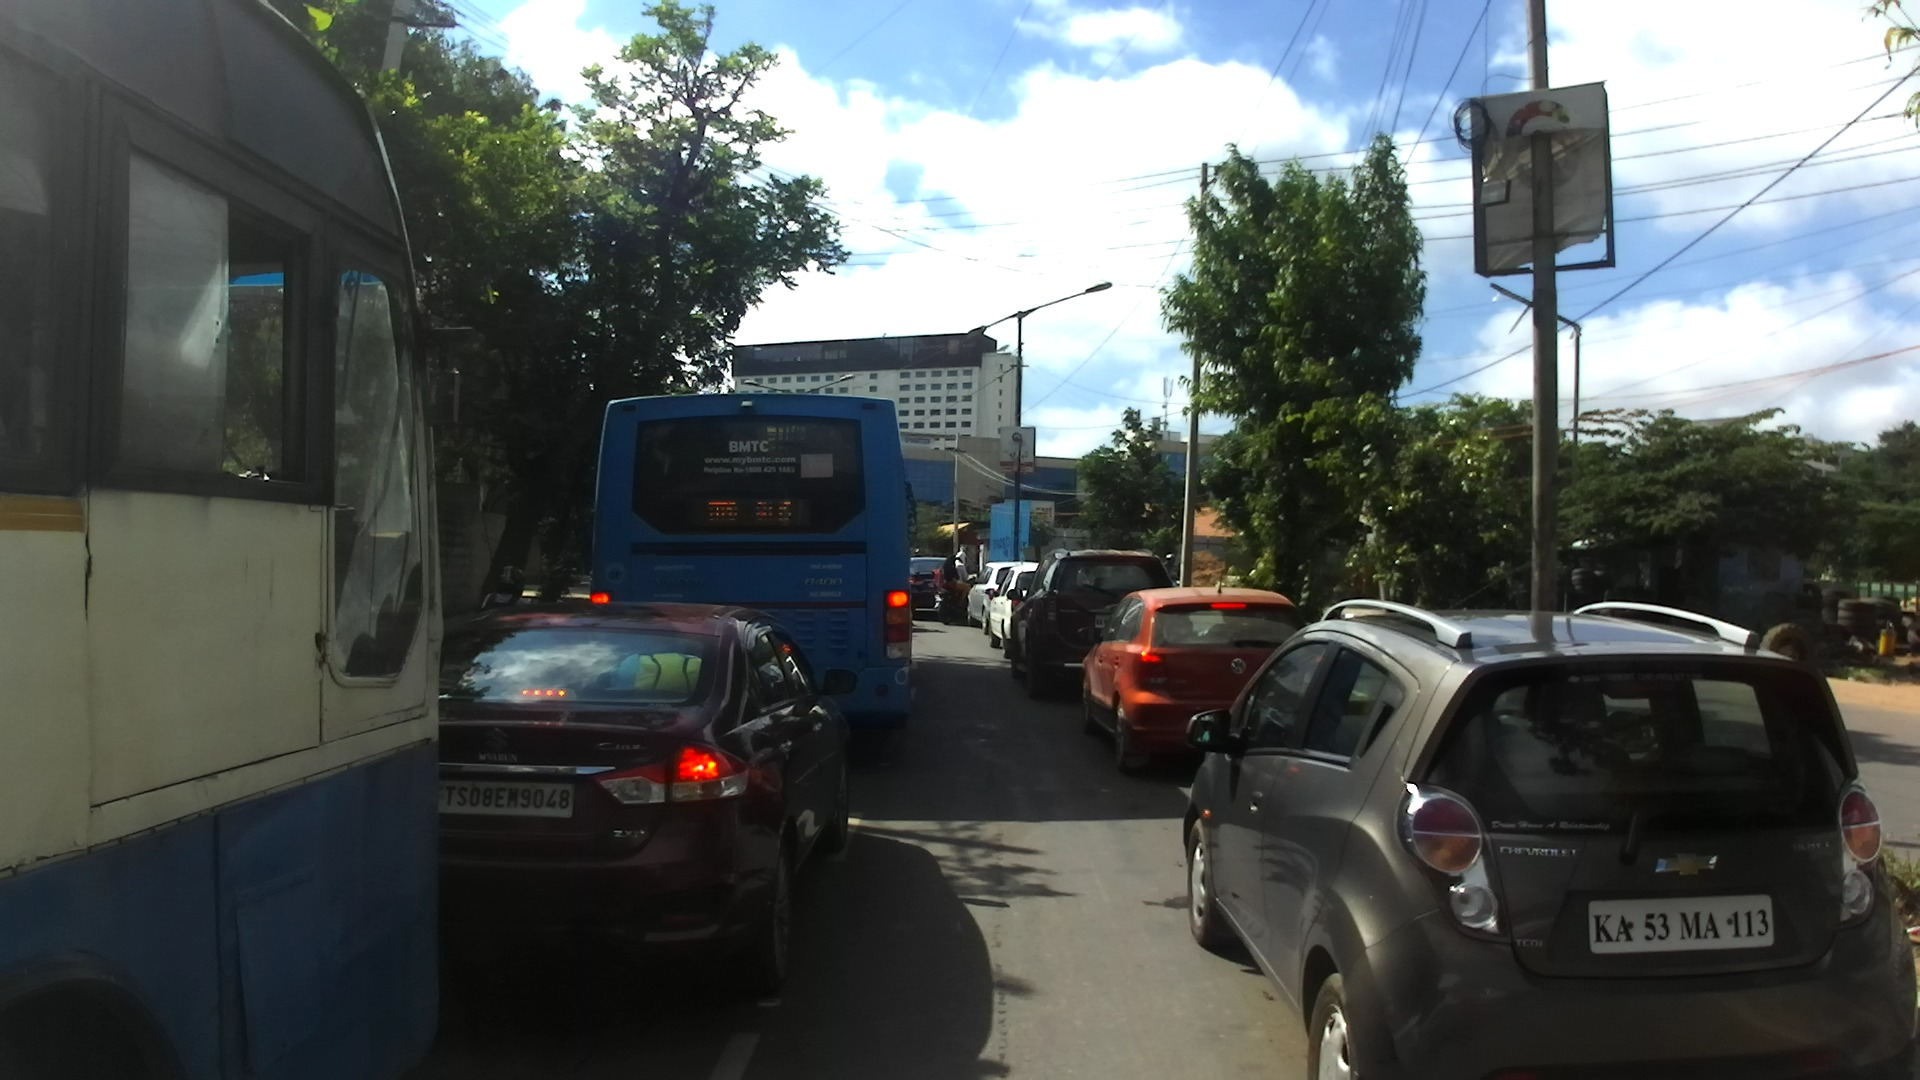bus: (1, 2, 475, 1077), (586, 392, 917, 773)
car: (1179, 600, 1918, 1078), (439, 603, 858, 1021), (1073, 573, 1303, 778), (1007, 550, 1176, 706), (984, 561, 1041, 656), (964, 560, 1020, 628), (908, 558, 951, 618), (520, 583, 593, 604)
motorcycle: (931, 576, 979, 625)
rider: (480, 566, 532, 617), (932, 551, 969, 618), (950, 550, 973, 584), (1292, 597, 1318, 623), (1162, 551, 1178, 575)
